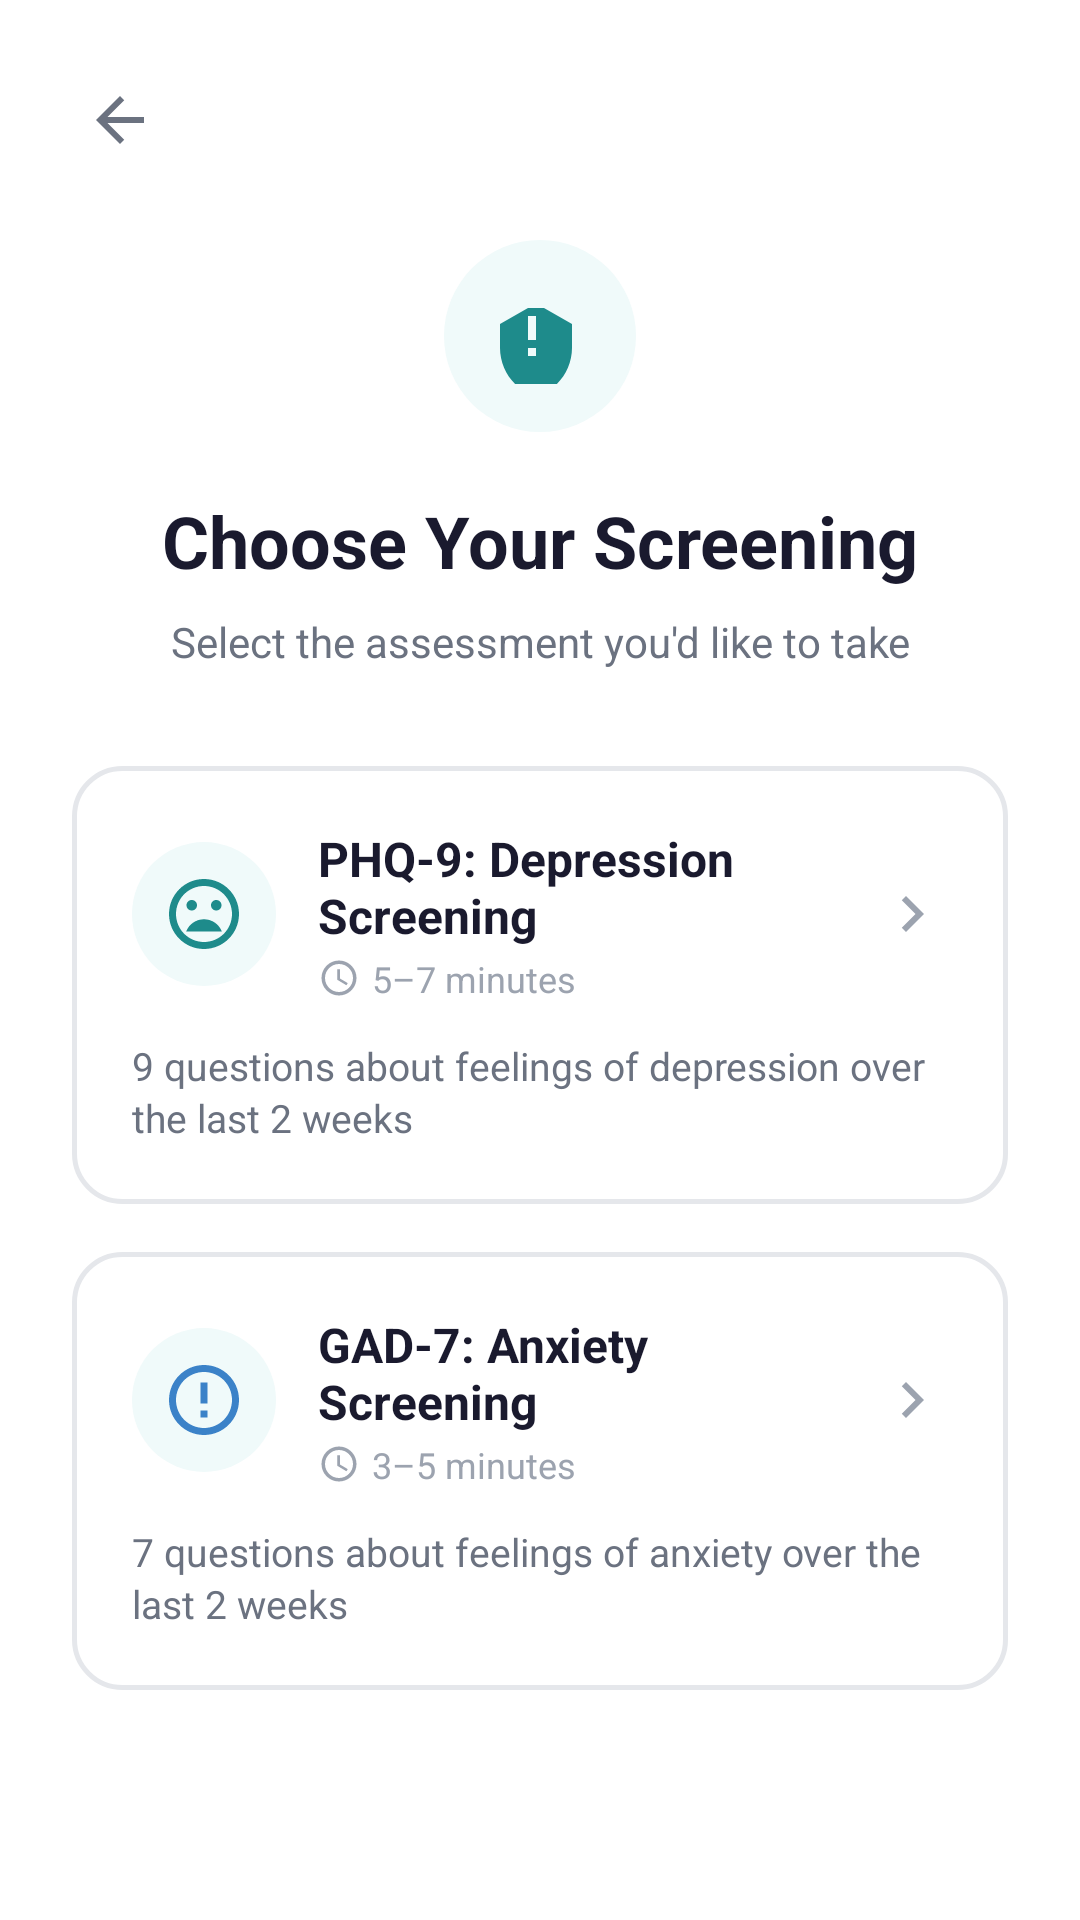

Screen size 1080px x 1920px. Icon name, then its box in pixels as (left=x1, top=y1, right=x2, bottom=y2):
Back: (left=96, top=96, right=144, bottom=144)
Duration: (left=321, top=960, right=357, bottom=996), (left=321, top=1446, right=357, bottom=1482)
Go: (left=902, top=896, right=924, bottom=932), (left=902, top=1382, right=924, bottom=1418)
